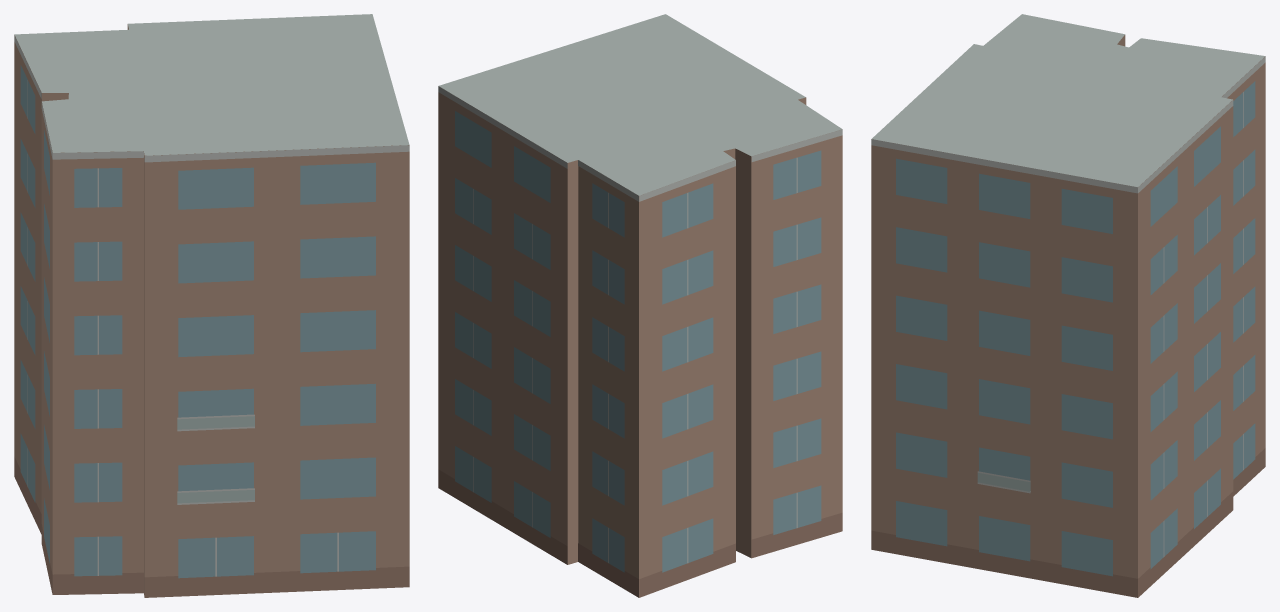
File: survey-upis-32526374.glb
3 renders of one model, left to right at view 1: azimuth 30°, elevation 25°; view 2: azimuth 150°, elevation 25°; view 3: azimuth 270°, elevation 25°, orthographic. The views are drawn at different scales.
Visible parts, largest first — view 1: survey-upis-32526374.tmp; view 2: survey-upis-32526374.tmp; view 3: survey-upis-32526374.tmp.
Boxes of the visible parts, left/top/right/bottom form: survey-upis-32526374.tmp: left=14, top=14, right=409, bottom=597; survey-upis-32526374.tmp: left=438, top=14, right=842, bottom=597; survey-upis-32526374.tmp: left=871, top=14, right=1265, bottom=597.
Size of the model in its own units: 14.58 by 16.1 by 14.02.
